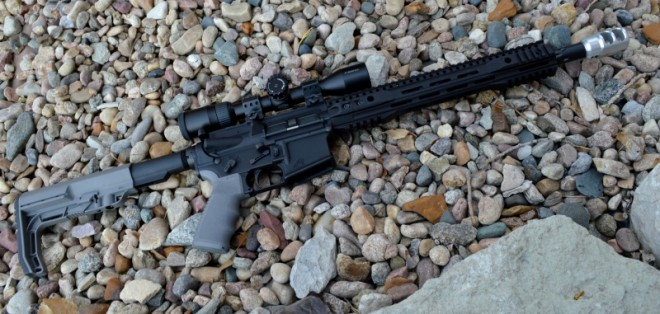Rifle: (13, 26, 630, 280)
